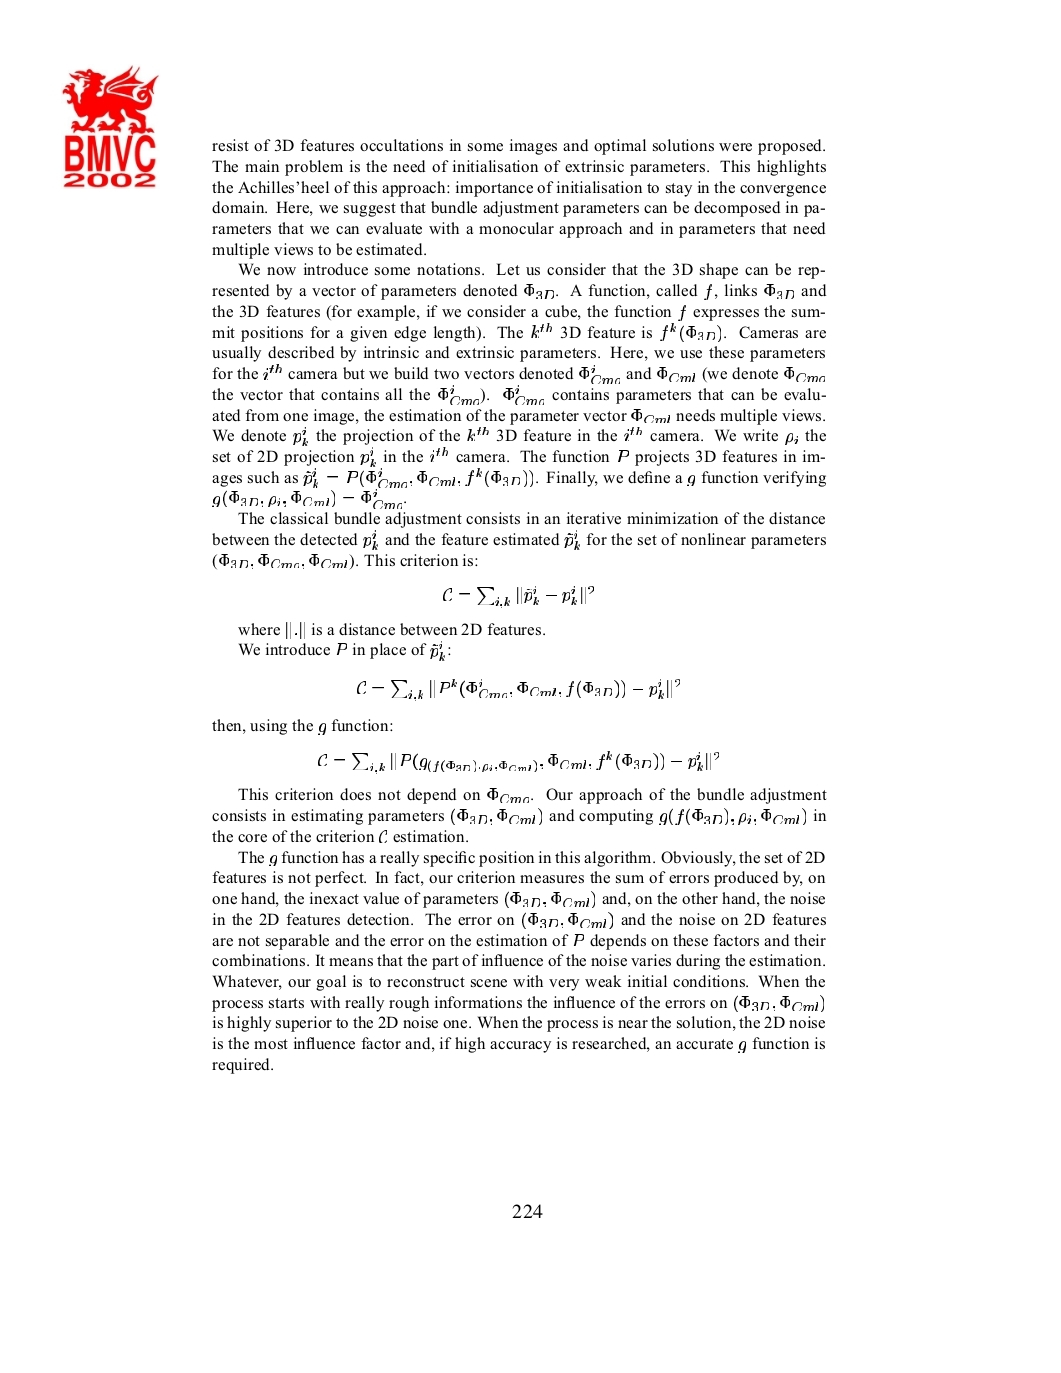figure: (61, 65, 158, 187)
formula: (318, 750, 718, 775), (357, 678, 679, 701), (442, 585, 593, 608)
